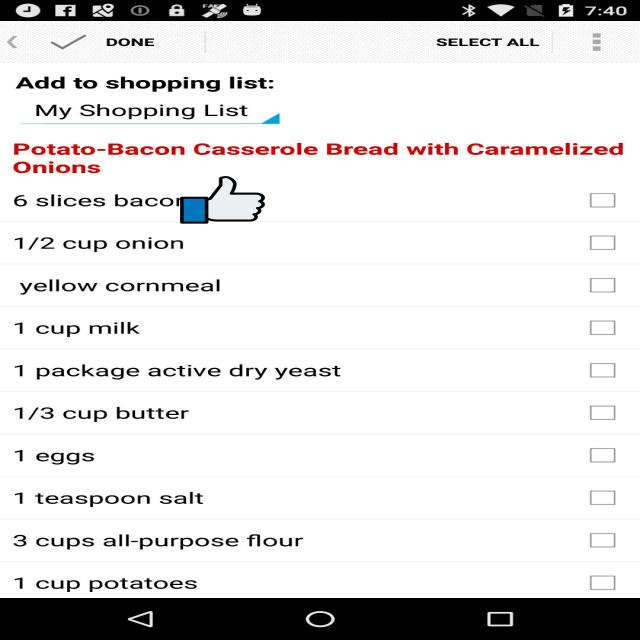privacy zuckering: (180, 175, 265, 225)
